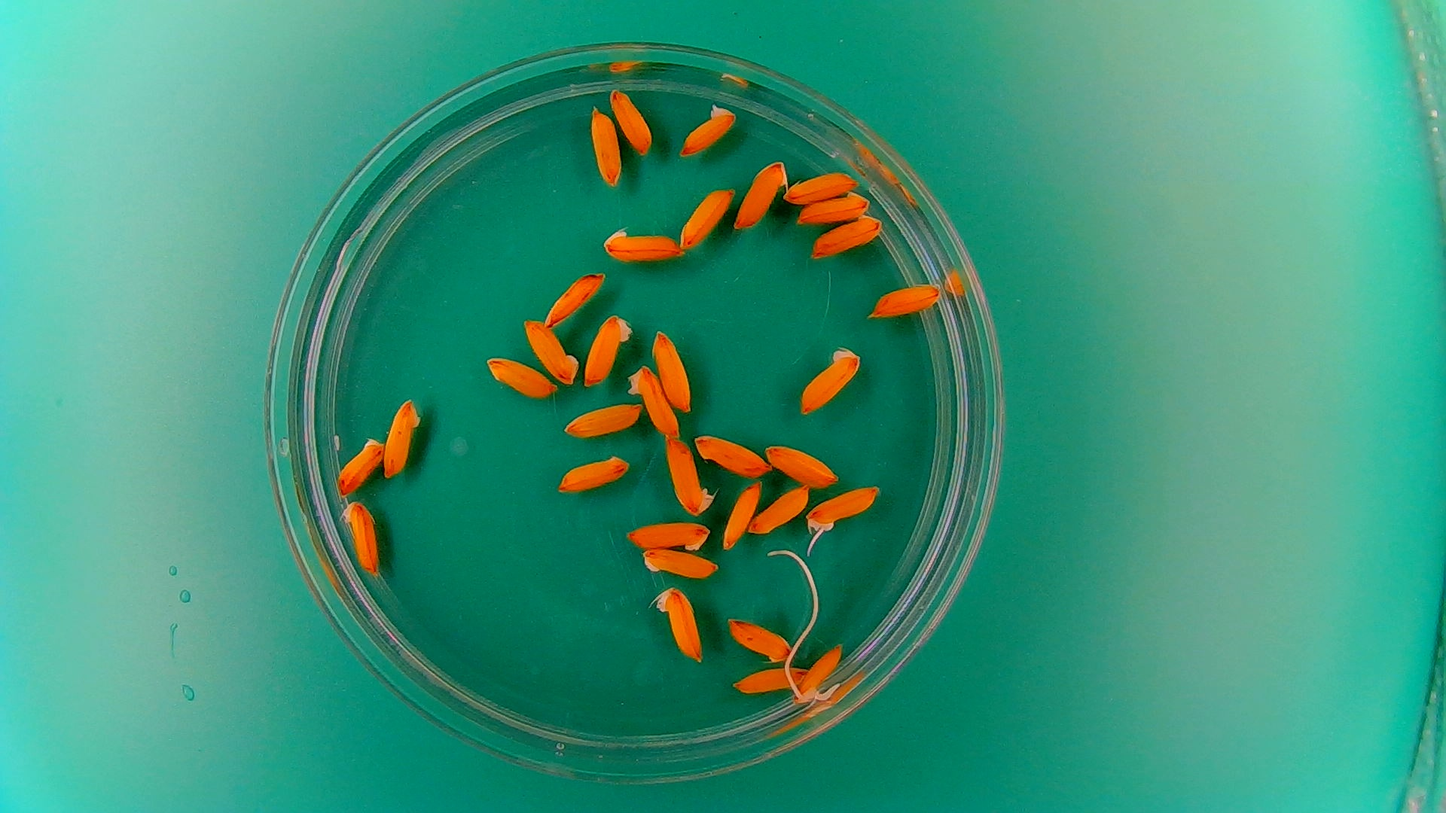no: (797, 343, 862, 417), (651, 586, 705, 666), (732, 157, 789, 232), (521, 315, 581, 385), (664, 434, 715, 516), (624, 361, 679, 437), (581, 312, 633, 387), (761, 440, 843, 487), (651, 326, 694, 413), (380, 394, 423, 480), (596, 222, 685, 263), (543, 270, 607, 327), (691, 431, 770, 477), (679, 185, 734, 251), (724, 614, 794, 664), (808, 213, 884, 259), (606, 83, 654, 155), (484, 353, 556, 400), (561, 399, 643, 440), (747, 483, 810, 536), (725, 659, 815, 696), (340, 498, 382, 577), (555, 452, 632, 494), (624, 517, 712, 553), (336, 434, 386, 496), (868, 279, 943, 320), (721, 478, 763, 551), (587, 104, 623, 188), (781, 168, 859, 204), (640, 547, 718, 580), (796, 191, 871, 225)
yes: (787, 621, 845, 705), (803, 486, 881, 536), (677, 99, 737, 157)
